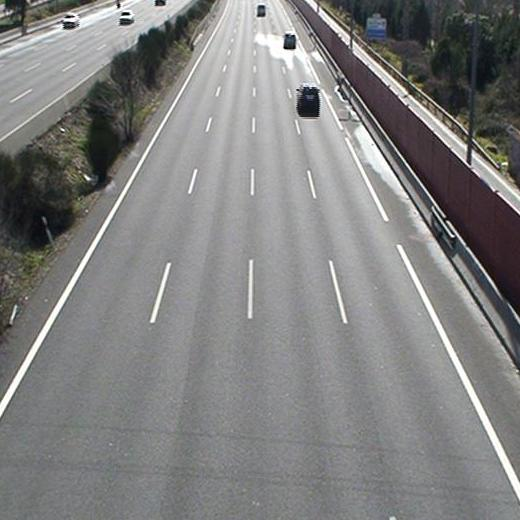car: (295, 83, 320, 115), (283, 30, 297, 50)
